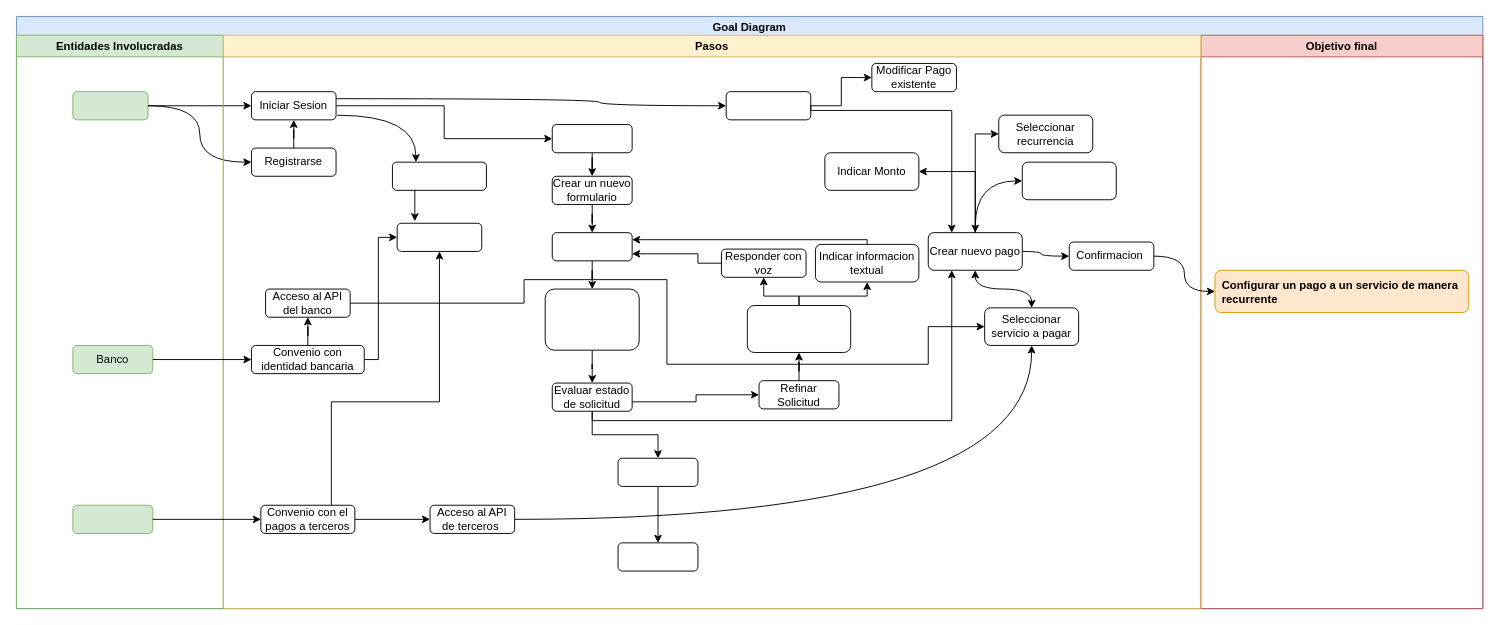
Some shapes in this 1499 by 625 pixel diagram are drawn without their labels. Each missing label, with the centre of its shape:
"Administrar Pagos" goes at point 768,105.
"Agregar un metodo de pago" goes at point 439,236.
"Cancelar Solicitud" goes at point 657,471.
"Eliminar formulario" goes at point 657,556.
"Empresa" goes at point 112,518.
"Identificar métodos de pago" goes at point 439,175.
"Iniciar un prompt por voz" goes at point 591,138.
"Llenar formulario con informacion obtenida del prompt" goes at point 591,319.
"Procesar el prompt" goes at point 591,246.
"Seleccionar metodo de pago" goes at point 1068,180.
"Solicitar al usuario informacion requerida" goes at point 798,328.
"Usuarios" goes at point 110,105.
